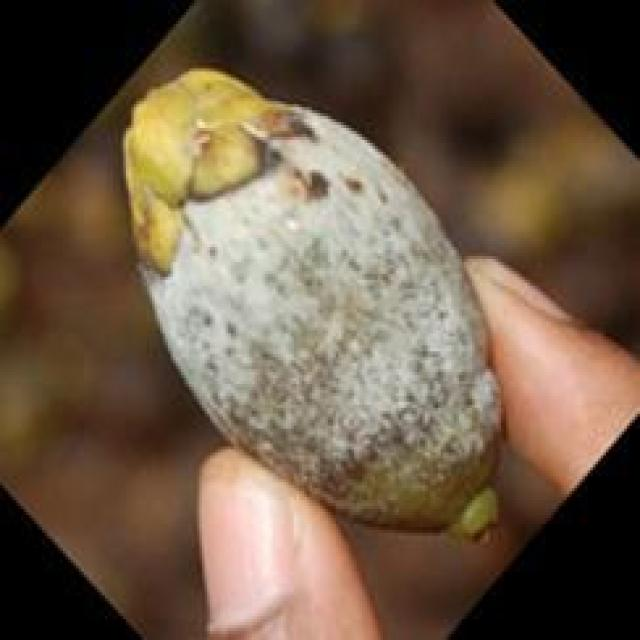damaged: (121, 71, 504, 539)
